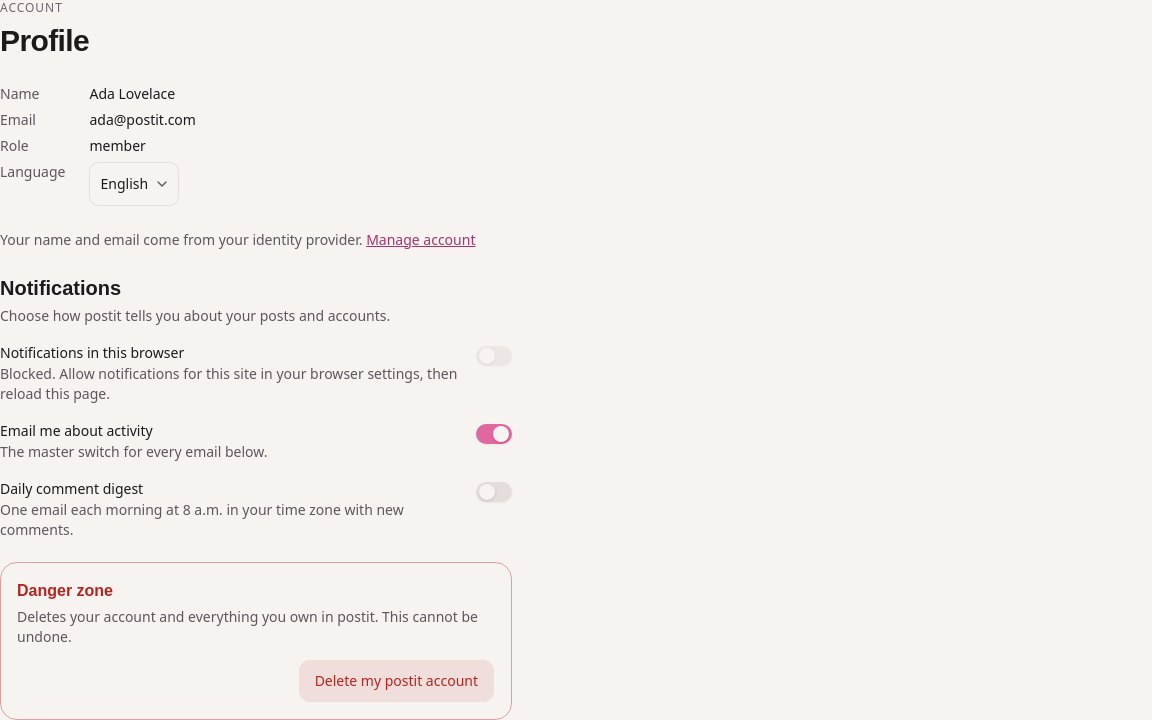
shows the server message when deletion is refused
The width and height of the screenshot is (1152, 720).
Step 1. Click the button "Delete my postit account" → (396, 681), box [298, 659, 495, 703]
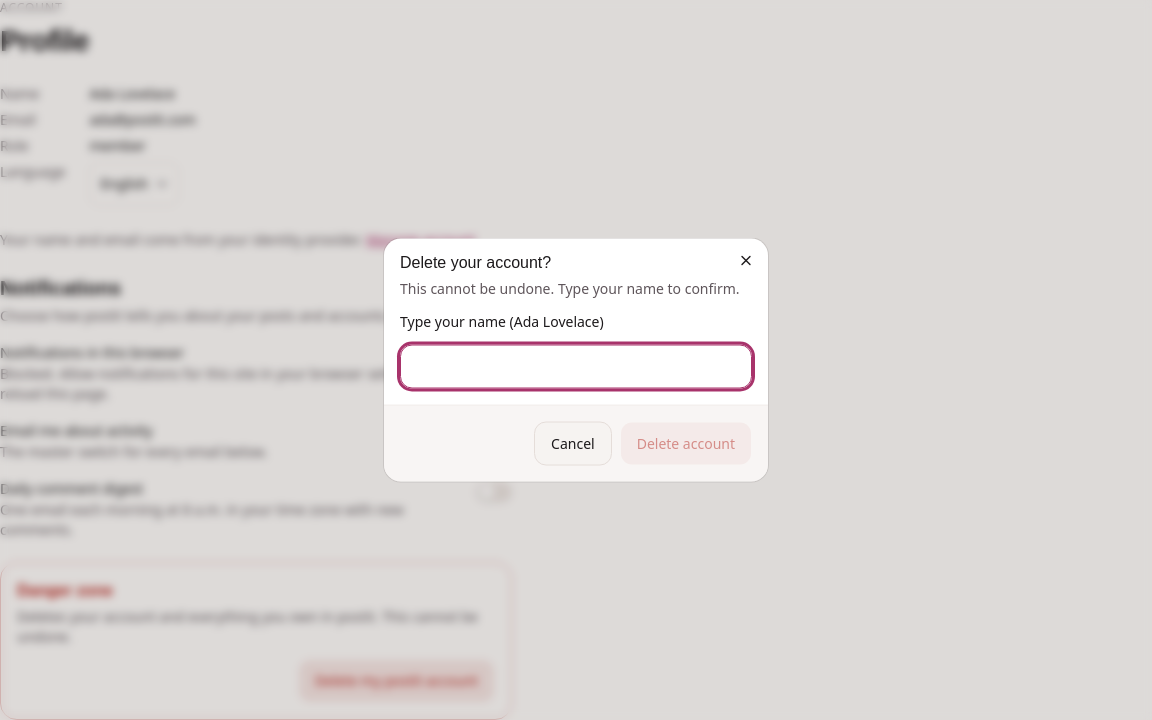
Step 2. Type "Ada Lovelace" into the field labelled "Type your name ( Ada Lovelace )" → (576, 366), box [400, 344, 752, 388]
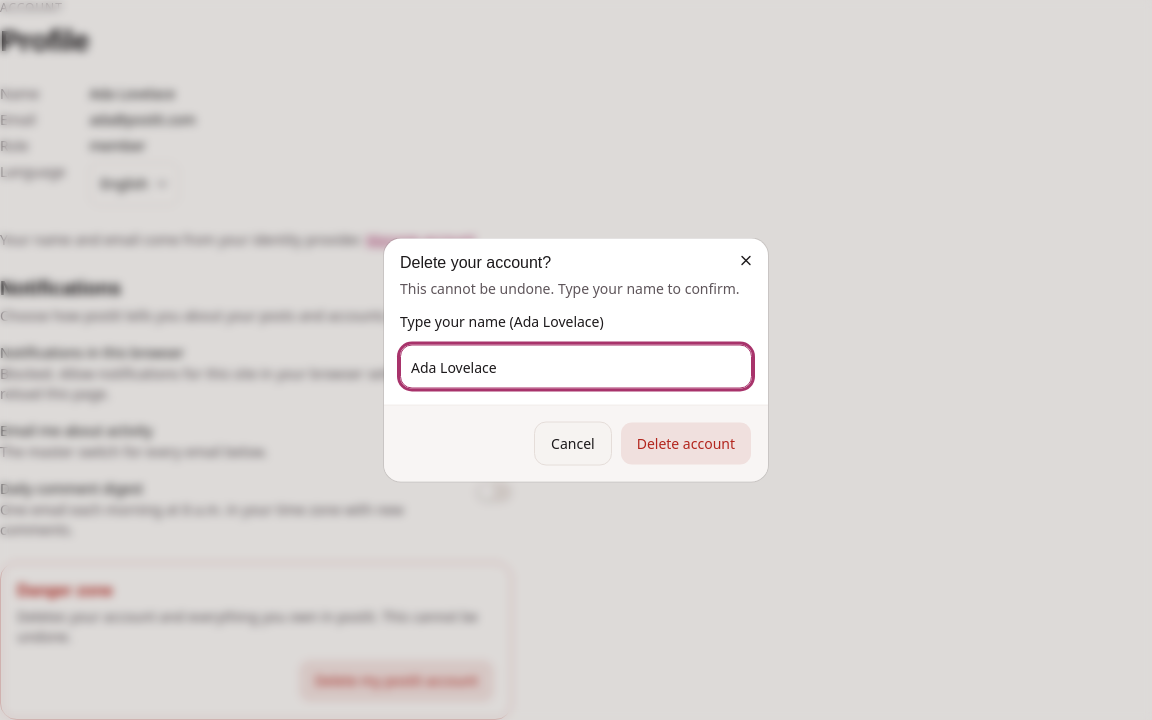
Step 3. Click the button "Delete account" → (686, 444), box [620, 422, 752, 466]
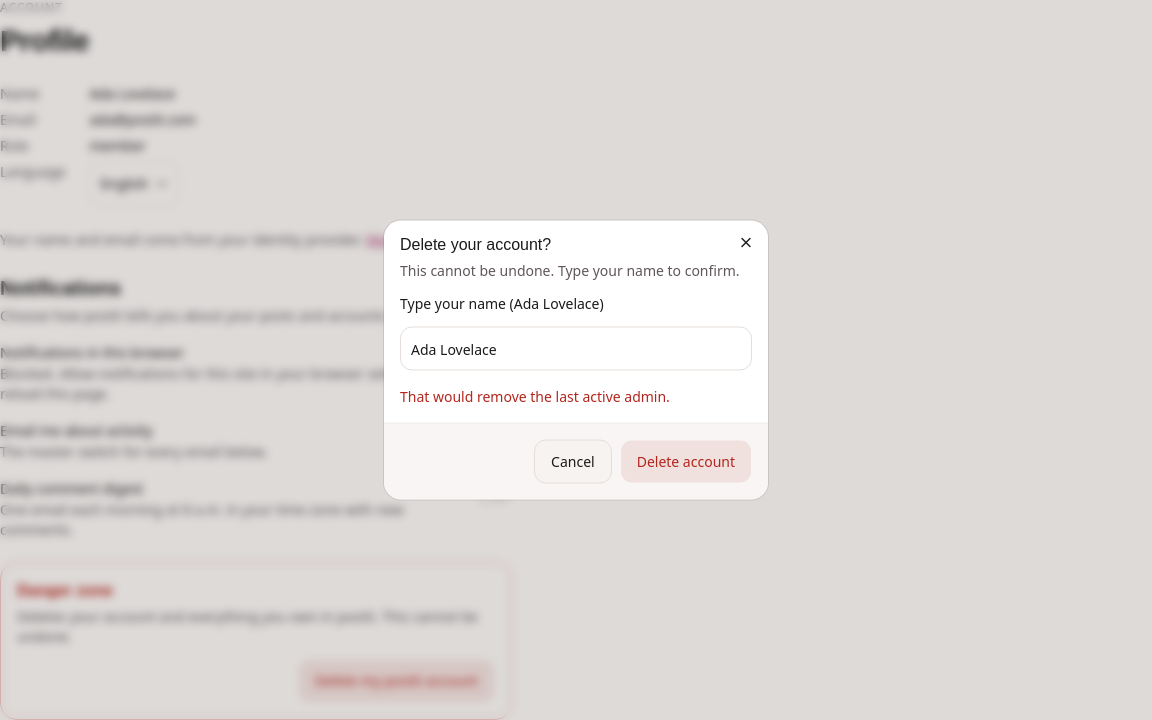
Now the text "That would remove the last active admin." is shown, box [400, 386, 670, 406]
